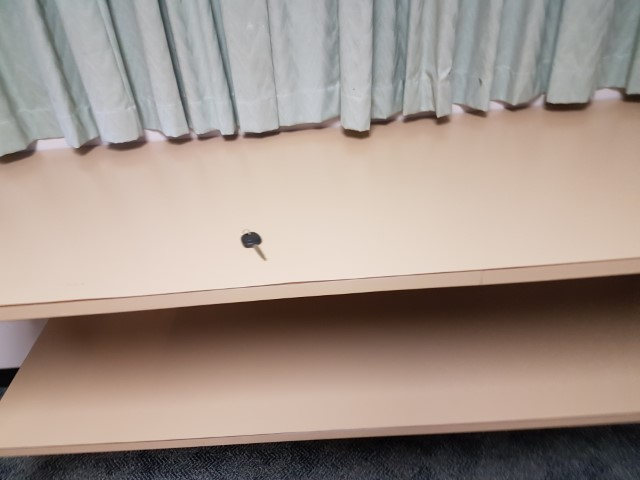key: (242, 232, 268, 260)
